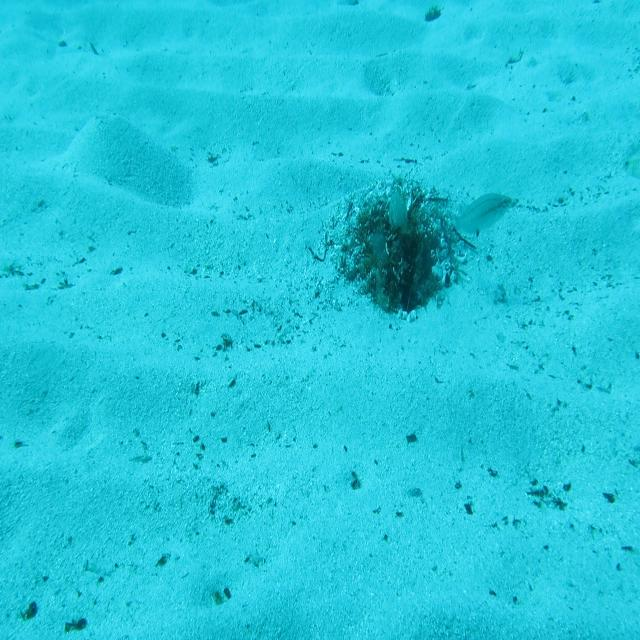NIP_CORE: (380, 181, 423, 245)
female: (447, 180, 514, 246)
nest: (336, 169, 467, 319)
